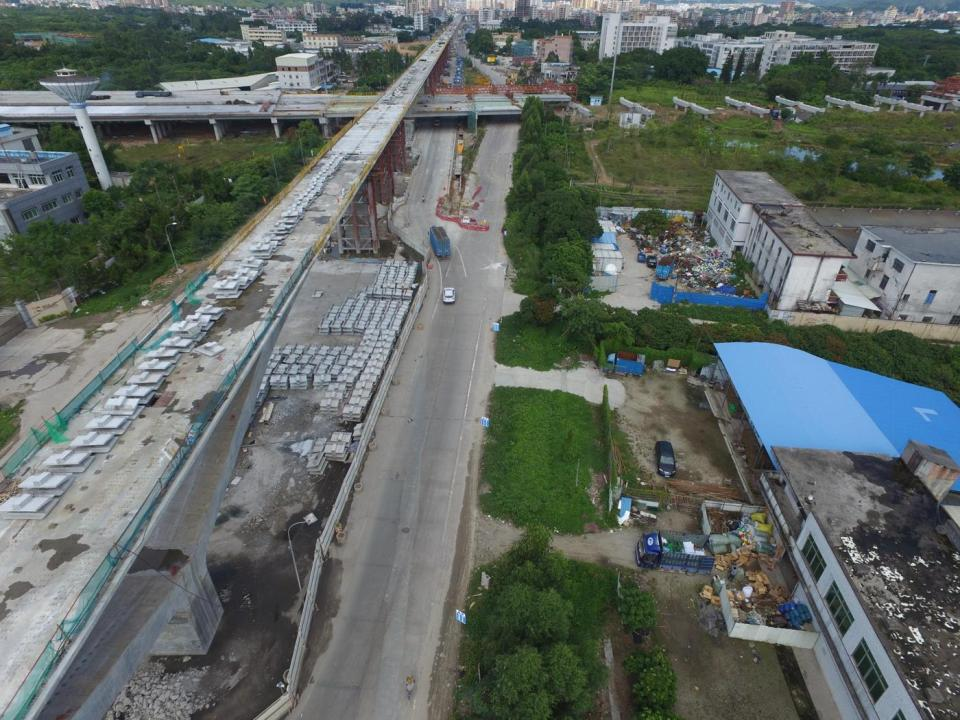car: (655, 440, 677, 478), (443, 286, 455, 304), (647, 255, 656, 268), (462, 215, 470, 224)
truck: (637, 530, 715, 576), (606, 351, 646, 377), (430, 226, 449, 261), (656, 257, 674, 279), (768, 105, 780, 120), (433, 111, 441, 127), (510, 62, 522, 68)
